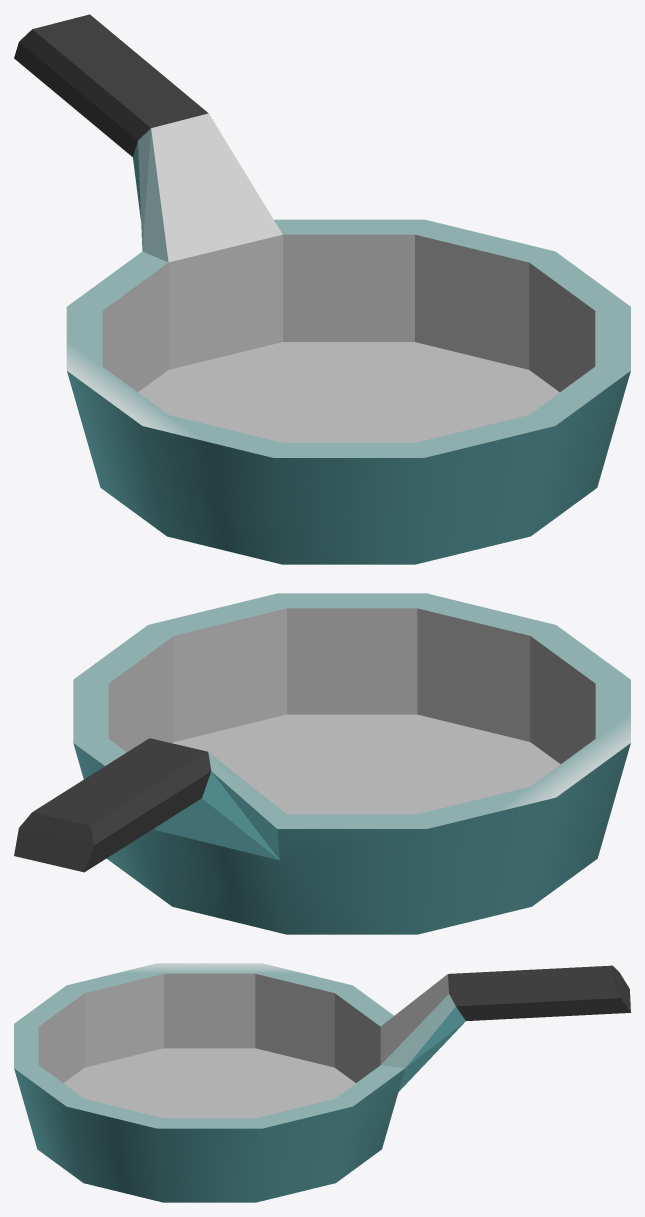
Rendered from Frying pan3.fbx.
3 renders of one model, top to bottom at view 1: azimuth 30°, elevation 25°; view 2: azimuth 150°, elevation 25°; view 3: azimuth 270°, elevation 25°, orthographic. The views are drawn at different scales.
Visible parts, largest first — view 1: Frying pan3; view 2: Frying pan3; view 3: Frying pan3.
Part boxes in pixels (x1,y1,x2,y2): Frying pan3: [14, 14, 630, 564]; Frying pan3: [14, 593, 630, 934]; Frying pan3: [14, 963, 630, 1202].
Bounding box in the file's own units: 32.26 × 14.14 × 50.86.
